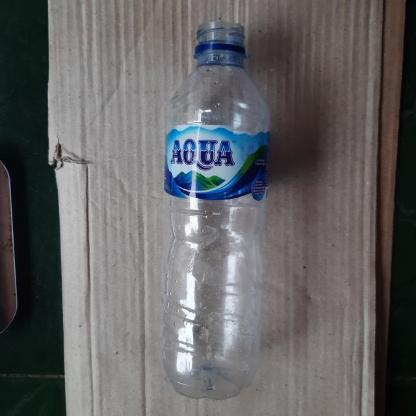Plastic Bottle: (163, 20, 271, 400)
